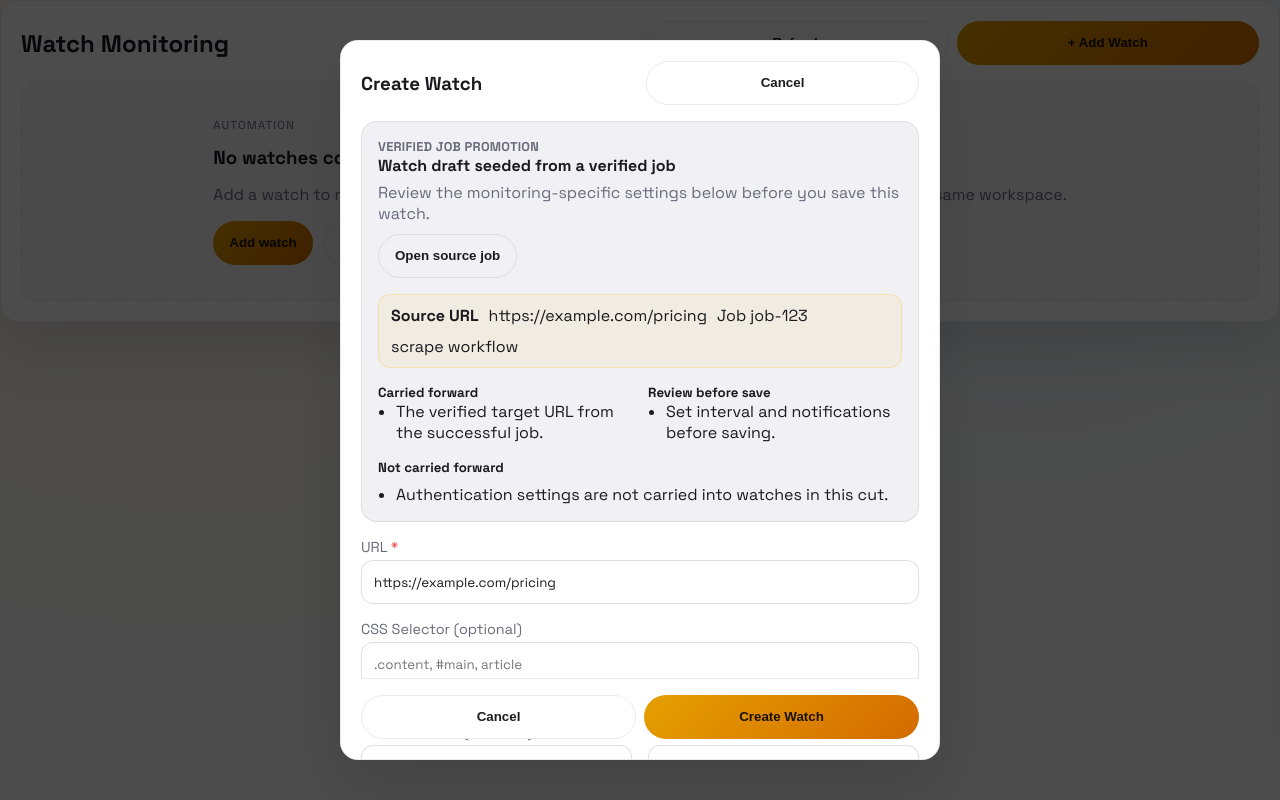
Test: WatchManager › opens a promotion-seeded watch draft with source context and preserves numeric draft text
The image size is (1280, 800).
Expected: the heading "Create Watch" is shown, [361,72,482,94]
Expected: the field showing "https://example.com/pricing" is shown, [361,560,919,604]
Click the button "Create Watch". click: [782, 717]
box: [644,695,919,739]
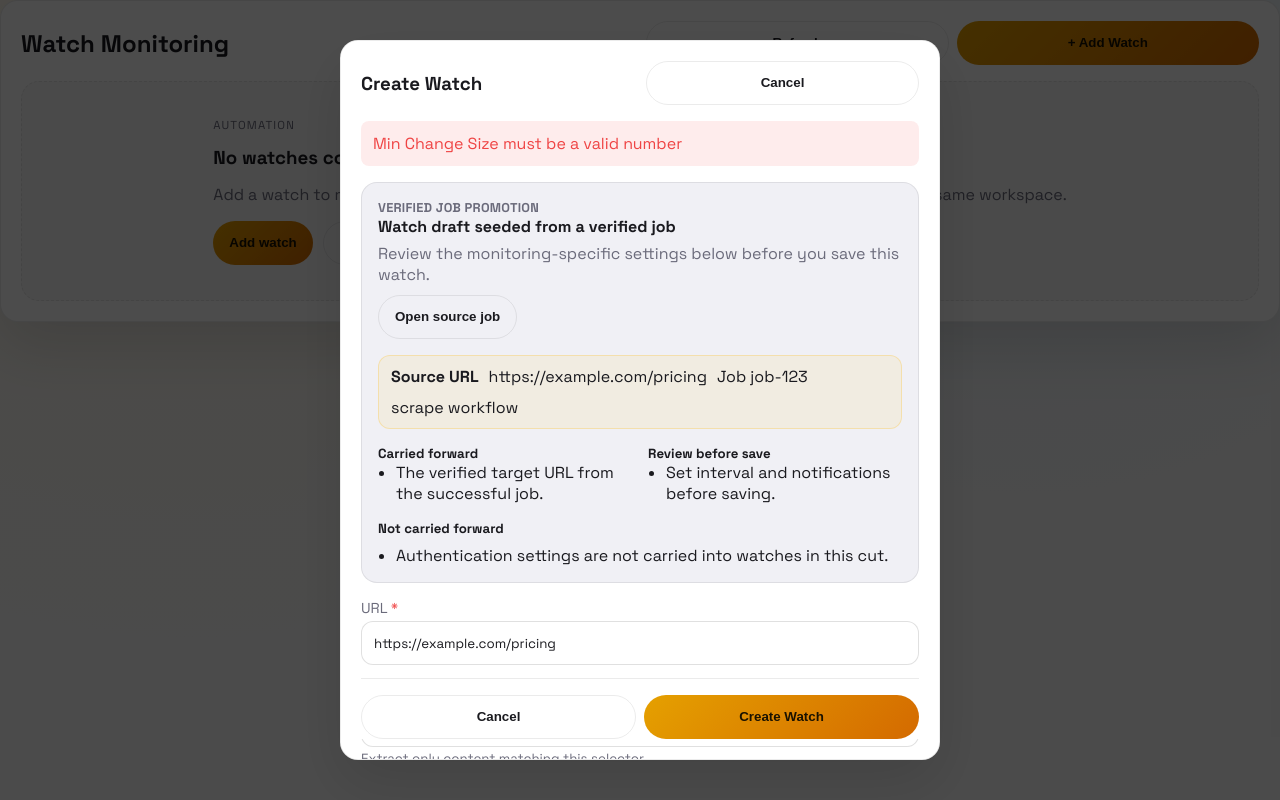
Now the text "Min Change Size must be a valid number" is shown, box [361,121,919,166]
